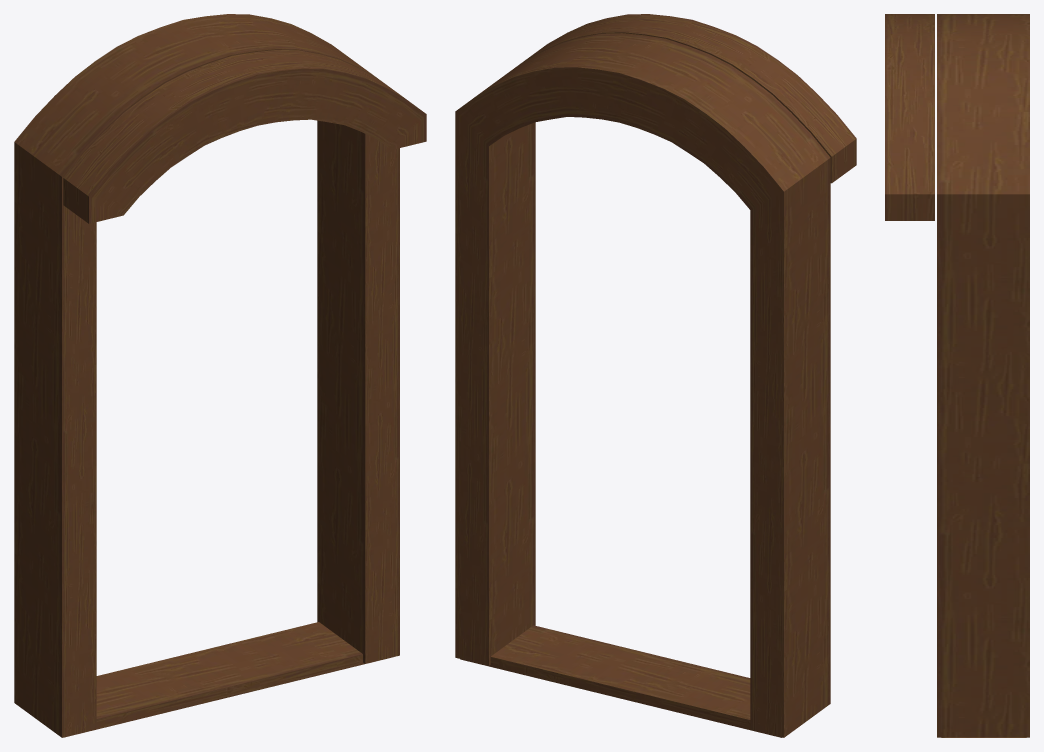
Rendered from doorframe_round_wooddark.glb.
3 renders of one model, left to right at view 1: azimuth 30°, elevation 25°; view 2: azimuth 150°, elevation 25°; view 3: azimuth 270°, elevation 25°, orthographic. The views are drawn at different scales.
Bounding box in the file's own units: 1.41 × 2.56 × 0.539.
Materials: 1 (1 with a texture image).
